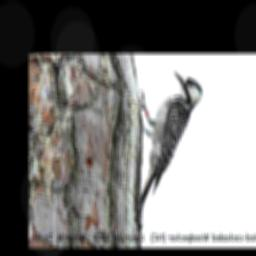Woodpecker: (136, 71, 204, 220)
